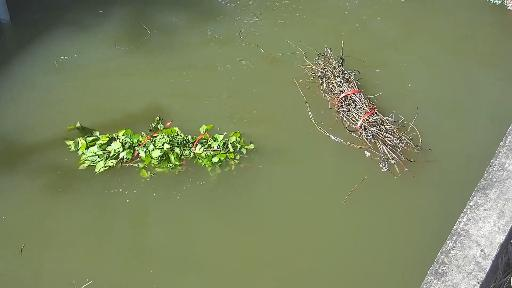twig: (260, 45, 429, 173), (26, 115, 265, 175), (38, 264, 117, 288), (492, 0, 512, 11)
